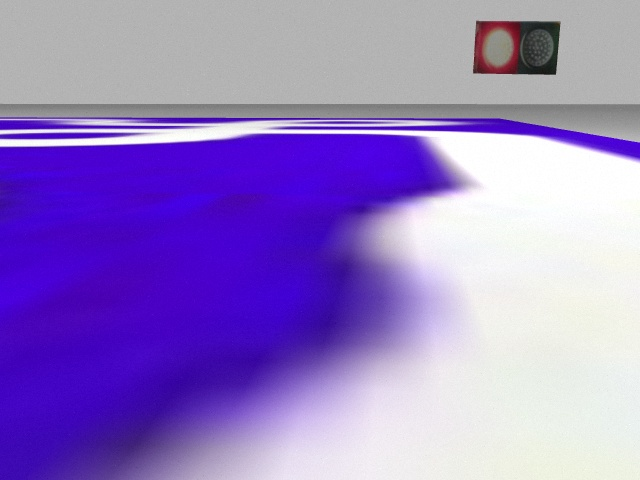red: (476, 20, 520, 76)
